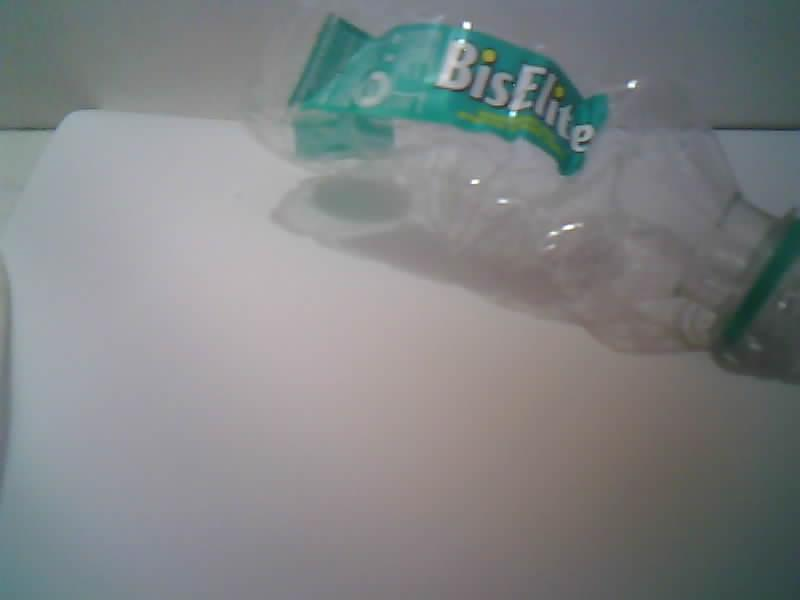non-biodegradable: (250, 0, 799, 382)
